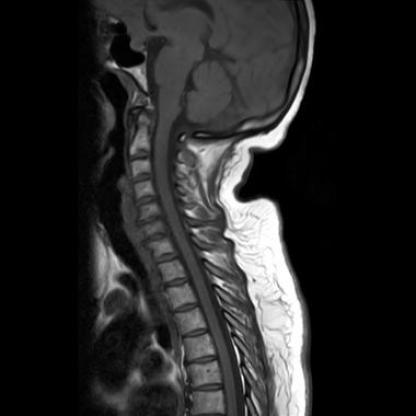Disc Bulgerotation: (140, 233, 172, 247), (134, 214, 165, 227)
Osteophytesrotation: (140, 232, 172, 246), (134, 214, 165, 228)
